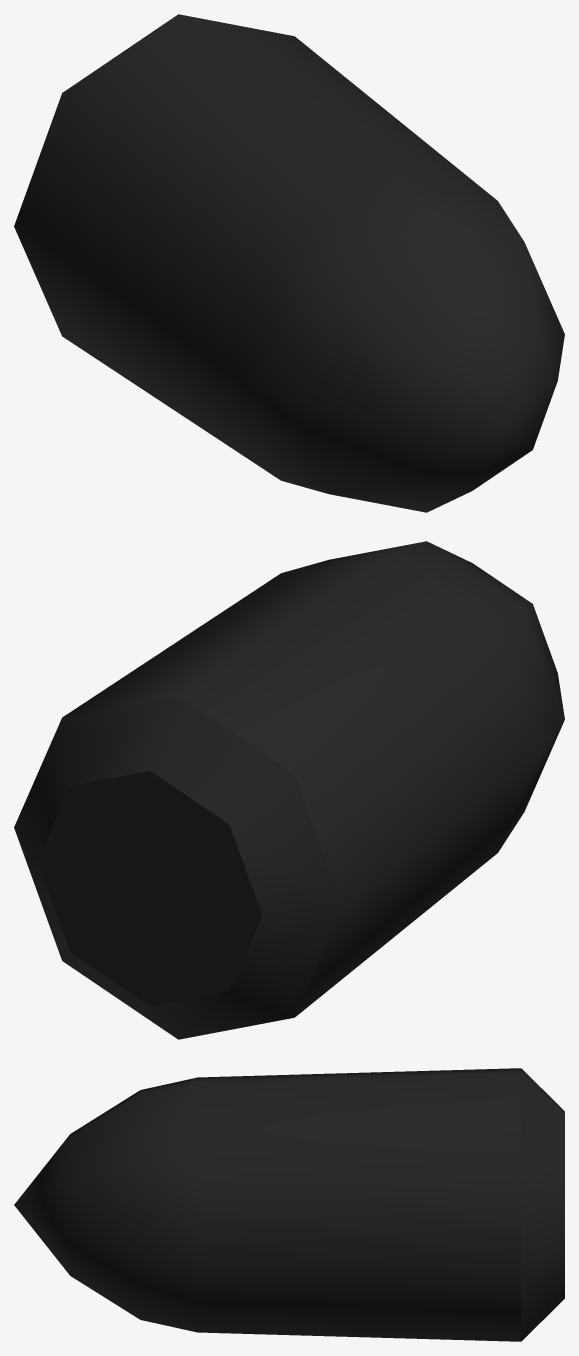
Rendered from bullet_1.fbx.
3 views of the same model, one above another, from view 1: azimuth 30°, elevation 25°; view 2: azimuth 150°, elevation 25°; view 3: azimuth 270°, elevation 25° (orthographic). The views are drawn at different scales.
Parts seen in each view (by area): view 1: bullet_1; view 2: bullet_1; view 3: bullet_1.
Boxes of the visible parts, x1=… form: bullet_1: x1=14, y1=14, x2=564, y2=512; bullet_1: x1=14, y1=541, x2=564, y2=1039; bullet_1: x1=14, y1=1068, x2=564, y2=1341.
Bounding box in the file's own units: 0.0666 × 0.126 × 0.0666.
